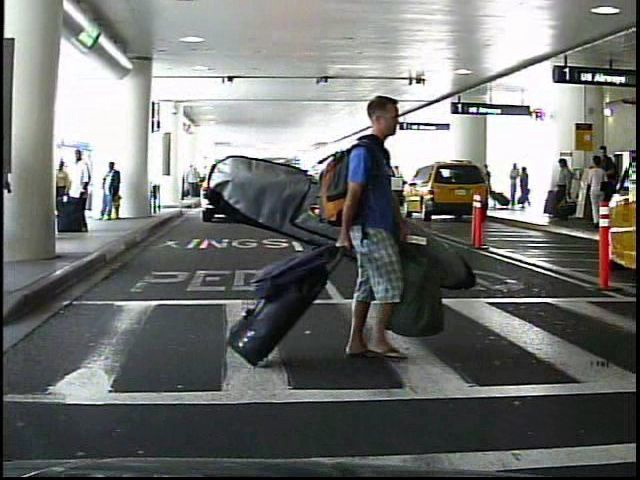person: (322, 86, 425, 373), (66, 146, 94, 235), (580, 155, 606, 229), (100, 162, 127, 228), (551, 157, 575, 225), (593, 143, 611, 222), (507, 162, 521, 209), (517, 163, 527, 207), (487, 161, 488, 209)
